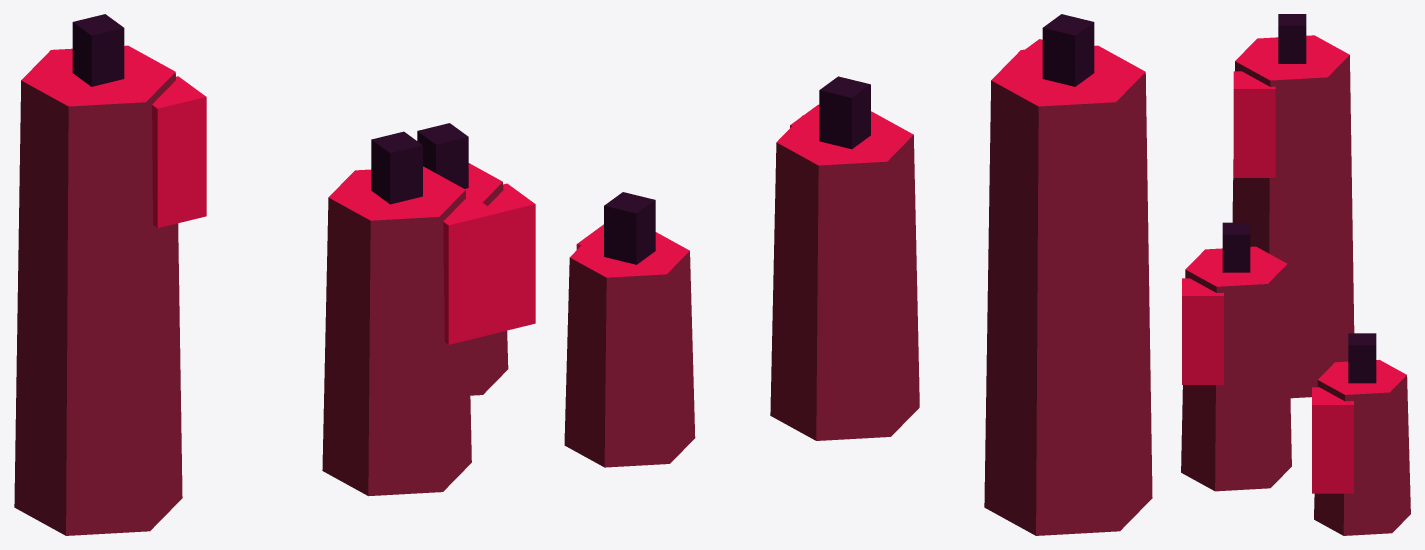
The model's file is candles1.glb.
3 renders of one model, left to right at view 1: azimuth 30°, elevation 25°; view 2: azimuth 150°, elevation 25°; view 3: azimuth 270°, elevation 25°, orthographic. The views are drawn at different scales.
Visible parts, largest first — view 1: Candles1; view 2: Candles1; view 3: Candles1.
Part boxes in pixels (x1,y1,x2,y2): Candles1: (14, 14, 535, 535); Candles1: (564, 14, 1152, 535); Candles1: (1181, 14, 1410, 535).
Size of the model in its own units: 0.6351 by 0.56 by 0.3287.
